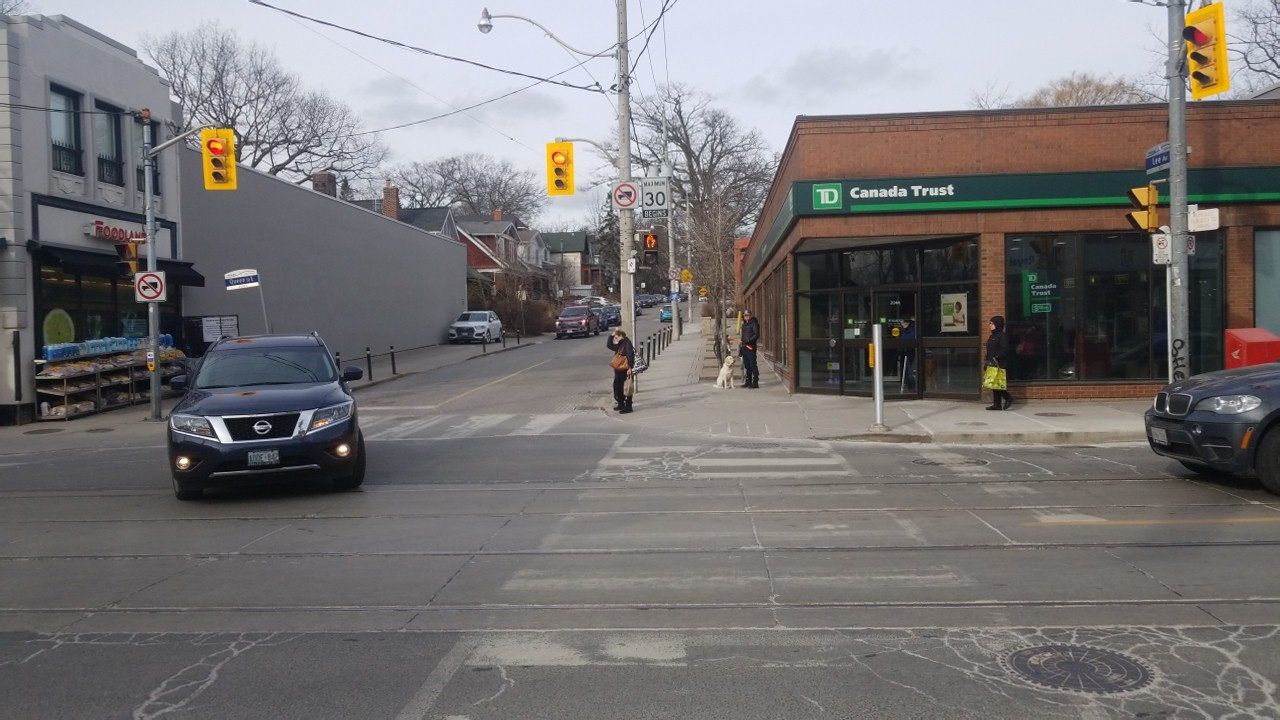light: (642, 232, 660, 267)
